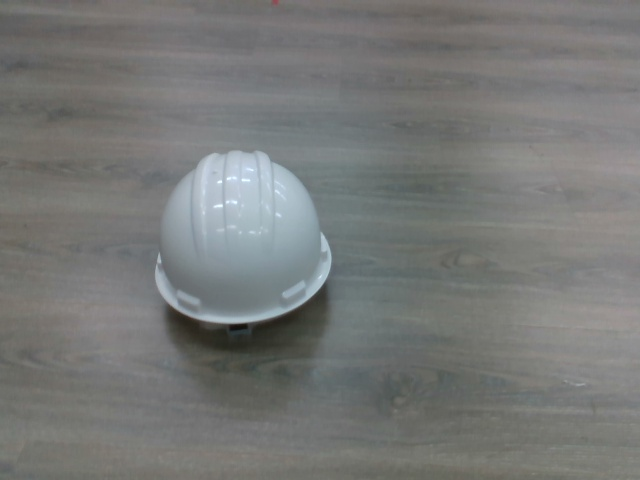helmet: (151, 148, 336, 338)
